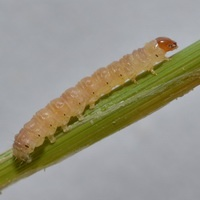insect: (13, 37, 176, 161)
